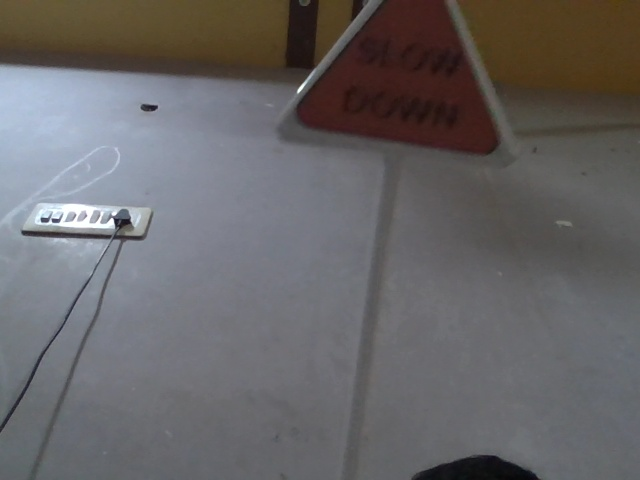slowdown: (279, 10, 529, 169)
